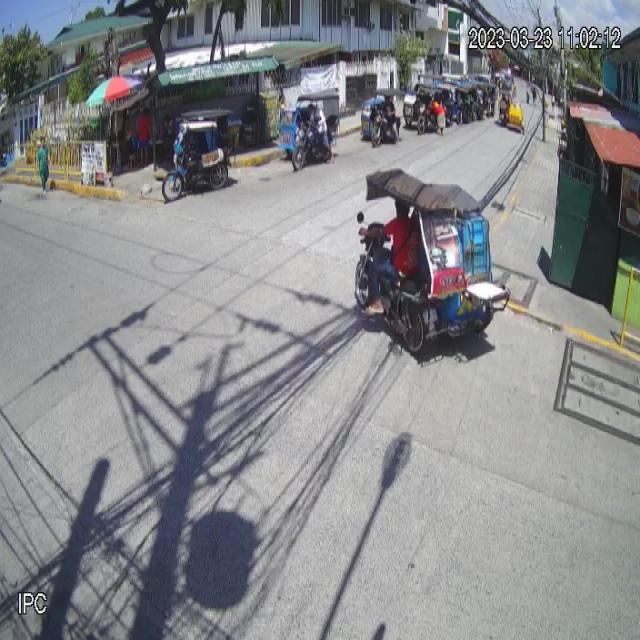Tricycle: (355, 168, 510, 362)
